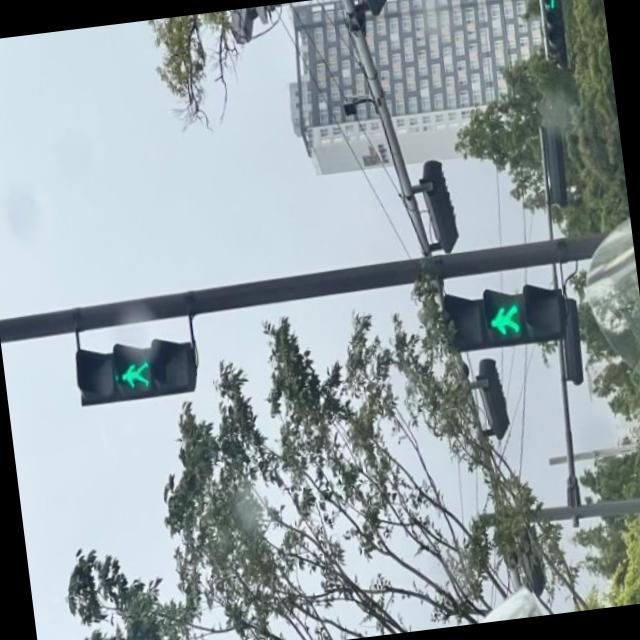green_light: (485, 296, 523, 338), (117, 356, 150, 389)
